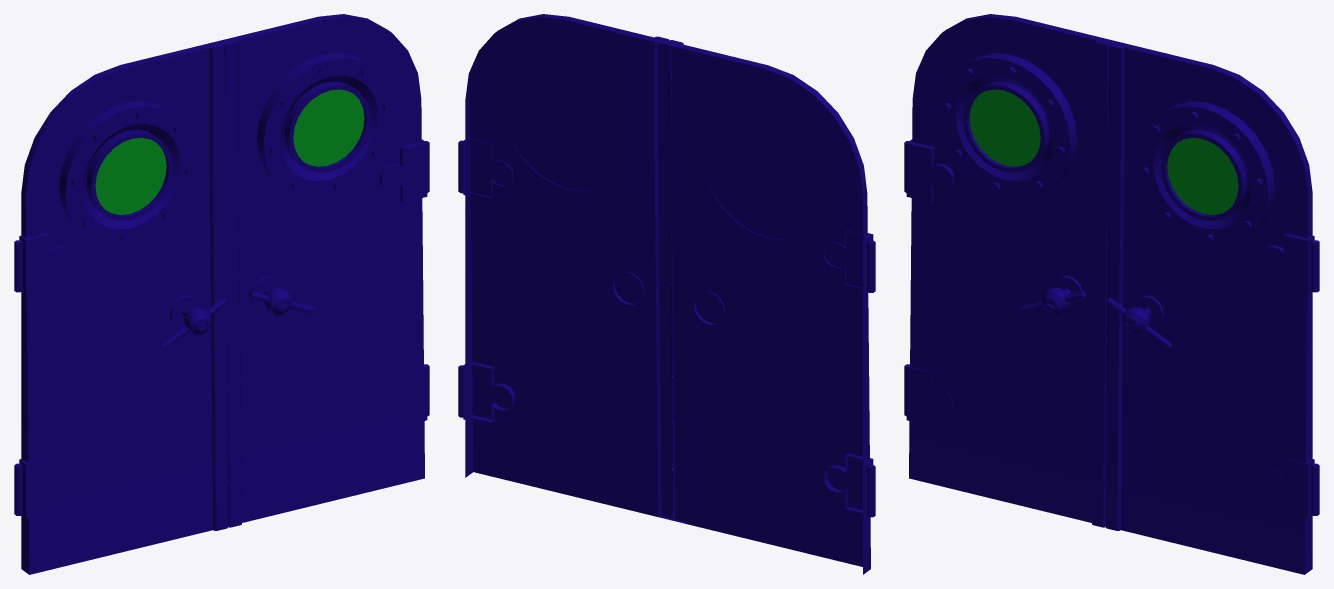
Rendered from Porte_02_4x4.FBX.
3 views of the same model, side by side, from view 1: azimuth 30°, elevation 25°; view 2: azimuth 150°, elevation 25°; view 3: azimuth 330°, elevation 25° (orthographic).
Visible parts, largest first — view 1: Porte_02_4x4; view 2: Porte_02_4x4; view 3: Porte_02_4x4.
Boxes of the visible parts, x1=… form: Porte_02_4x4: x1=14, y1=14, x2=429, y2=574; Porte_02_4x4: x1=458, y1=14, x2=875, y2=574; Porte_02_4x4: x1=904, y1=14, x2=1319, y2=574.
Size of the model in its own units: 250 by 277 by 25.12.
